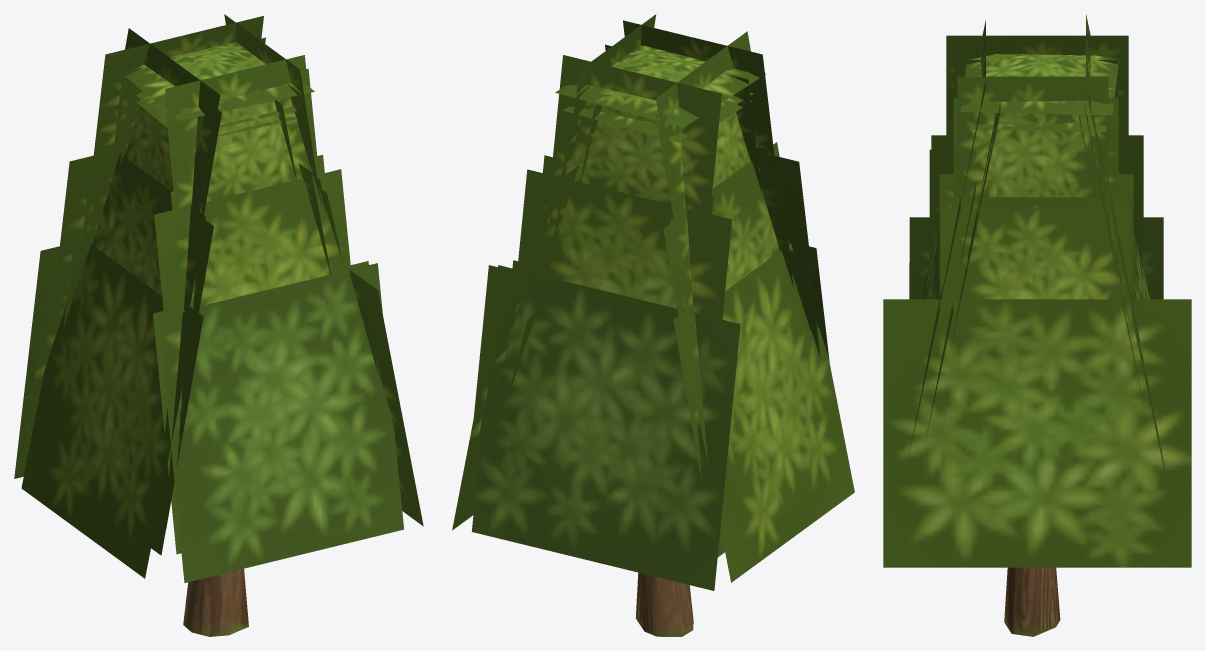
File: City_tree_07.FBX
3 views of the same model, side by side, from view 1: azimuth 30°, elevation 25°; view 2: azimuth 150°, elevation 25°; view 3: azimuth 270°, elevation 25° (orthographic).
Visible parts, largest first — view 1: City_tree_07; view 2: City_tree_07; view 3: City_tree_07.
Part boxes in pixels (x1,y1,x2,y2): City_tree_07: (14,14,423,636); City_tree_07: (452,14,854,636); City_tree_07: (883,14,1191,636).
Size of the model in its own units: 275 by 570 by 280.
